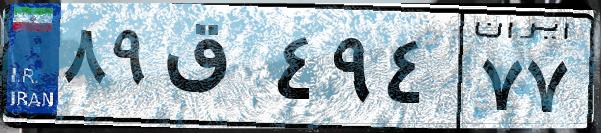4: (270, 28, 330, 110), (385, 28, 445, 110)
7: (475, 38, 525, 113), (525, 38, 570, 115)
8: (57, 26, 110, 100)
9: (330, 28, 385, 110), (110, 28, 158, 98)
ق: (158, 20, 270, 120)
